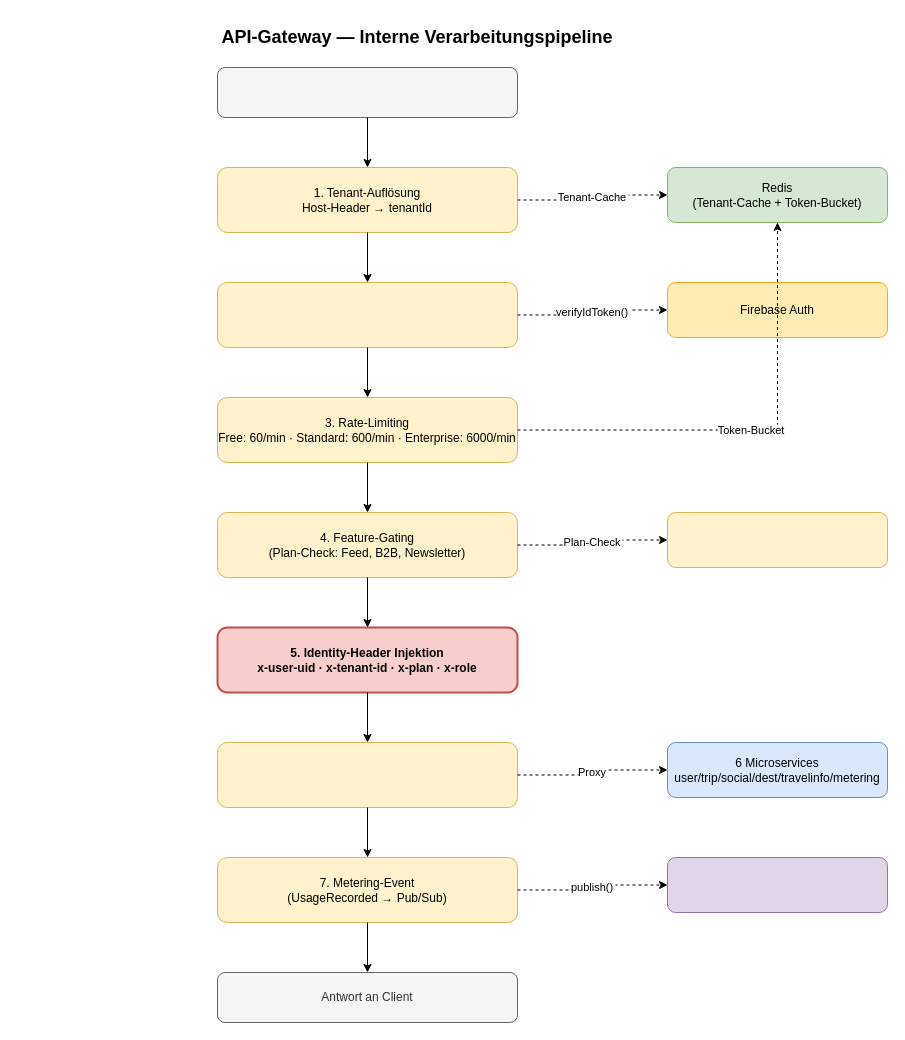
This 905x1040 diagram has some shape labels left out. The centre of each missing label's shape, as x and y in pixels:
"2. JWT-Verifikation (Firebase Admin SDK)" belongs at pixel 367 315.
"6. Proxy-Routing an Ziel-Microservice" belongs at pixel 367 775.
"Eingehende HTTP-Anfrage" belongs at pixel 367 92.
"Pub/Sub (usage-recorded)" belongs at pixel 777 884.
"tiers.js / Plan-Config" belongs at pixel 777 540.
